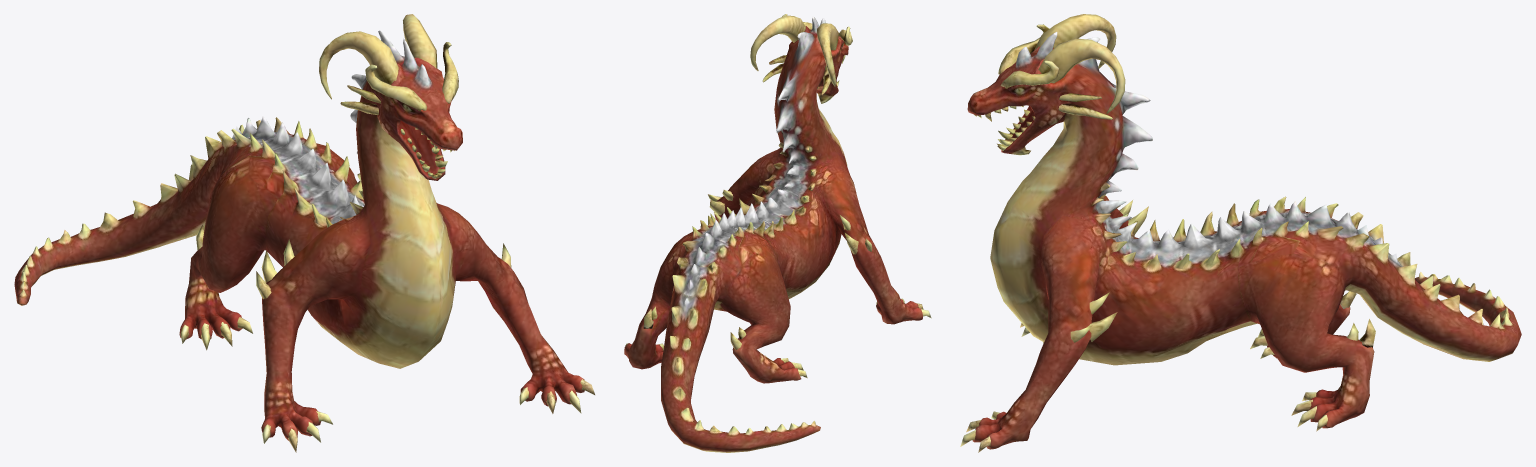
Rendered from 106-fafnir.glb.
The picture shows the model from 3 angles, left to right: view 1: azimuth 30°, elevation 25°; view 2: azimuth 150°, elevation 25°; view 3: azimuth 270°, elevation 25°; orthographic projection. The views are drawn at different scales.
Bounding box in the file's own units: 5.21 × 5.37 × 7.55.
Materials: 1 (1 with a texture image).
